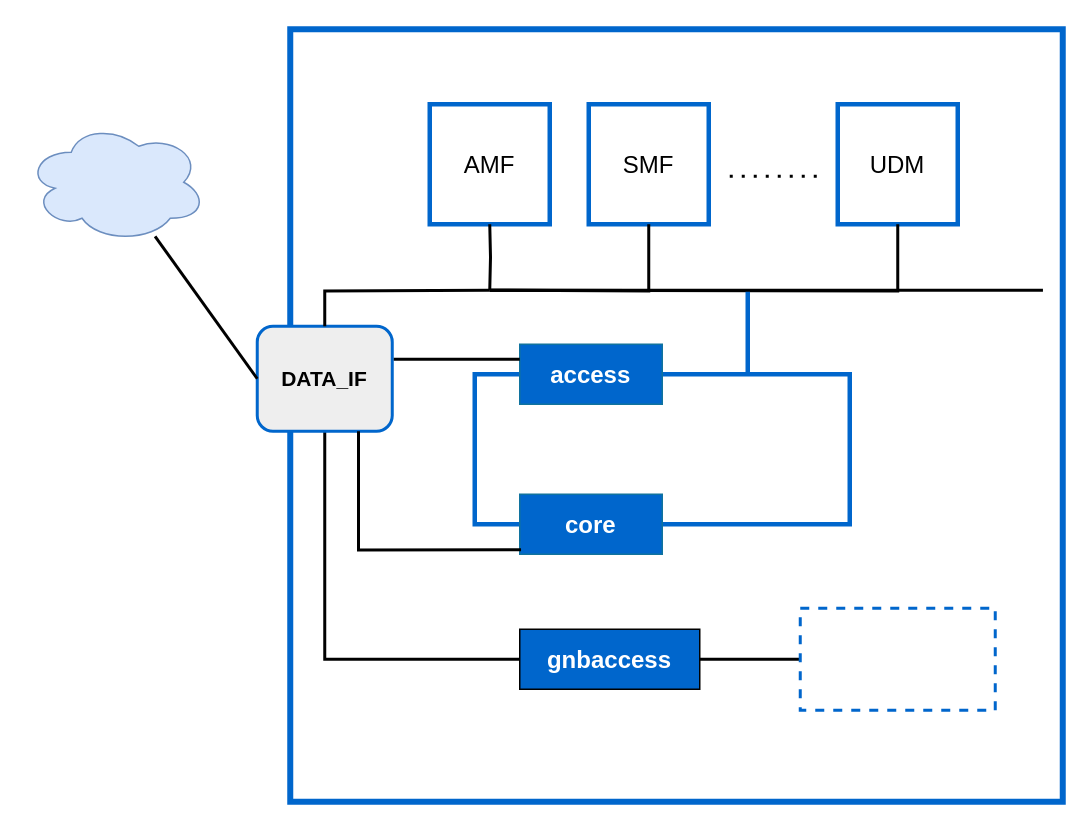
Image size: 1092x830. Some labels were removed from this diagram. Here are the shapes that lost their labels. From the top down, the box of each, then its label:
(25, 121, 206, 242): Internet
(472, 371, 851, 526): UPF
(798, 606, 996, 711): gNbsim Container
